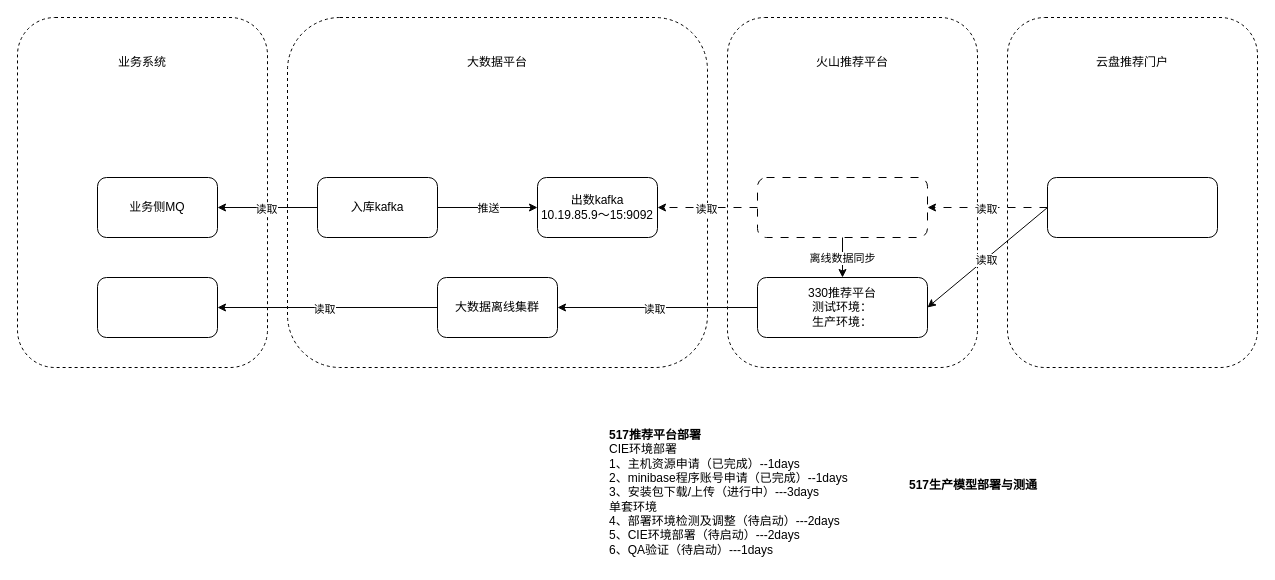
Some shapes in this 1275 by 580 pixel diagram are drawn without their labels. The centre of each missing label's shape, as x and y in pixels:
"517推荐平台 测试环境：10.19.94.143 生产环境：10.19.87.1" belongs at (842,207).
"云盘BI集群" belongs at (157,307).
"推荐门户 ip：门户方来测通" belongs at (1132,207).
